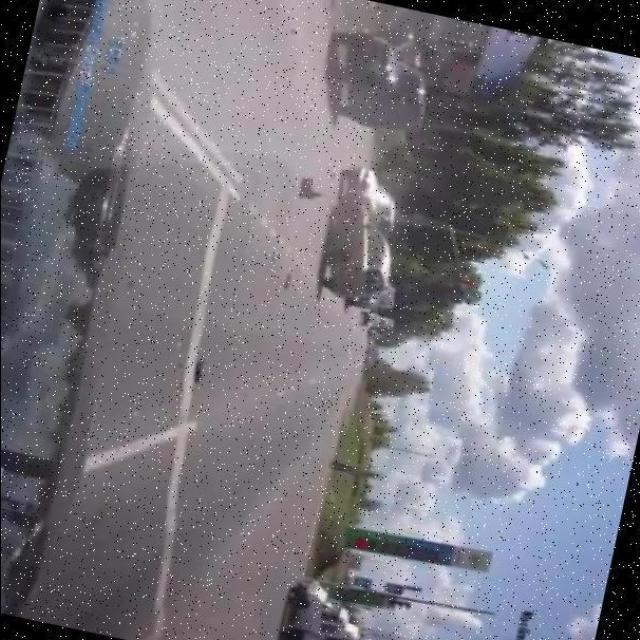accident: (327, 161, 413, 267)
